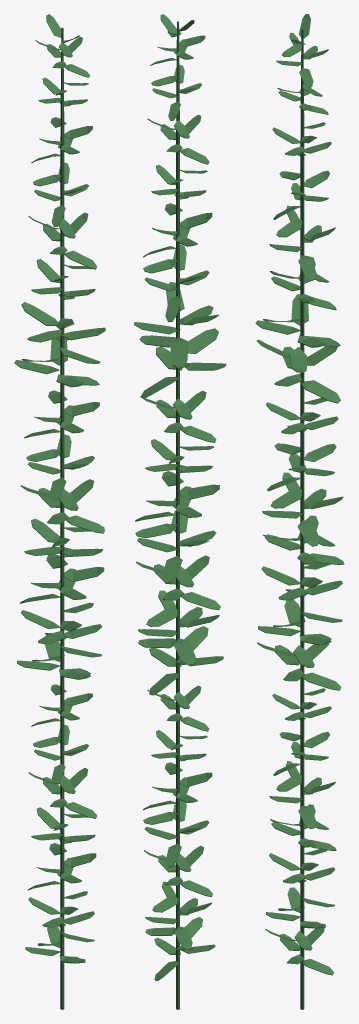
The model's file is Seaweed_005.glb.
3 views of the same model, side by side, from view 1: azimuth 30°, elevation 25°; view 2: azimuth 210°, elevation 25°; view 3: azimuth 330°, elevation 25° (orthographic).
Parts seen in each view (by area): view 1: Seaweed_005; view 2: Seaweed_005; view 3: Seaweed_005.
Boxes of the visible parts, box(x1,y1,x2,y2) form: Seaweed_005: box(14, 14, 105, 1009); Seaweed_005: box(134, 14, 226, 1009); Seaweed_005: box(255, 14, 344, 1009).
Size of the model in its own units: 0.6888 by 8.19 by 0.6535.
1 material, 1 textured.
